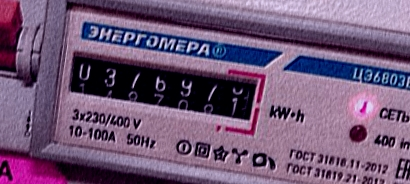0: (75, 59, 94, 82)
1: (227, 96, 241, 118)
3: (101, 65, 118, 90)
6: (153, 71, 169, 93)
7: (127, 66, 143, 92), (203, 79, 219, 104)
9: (178, 75, 194, 99)
screen: (58, 44, 269, 140)
